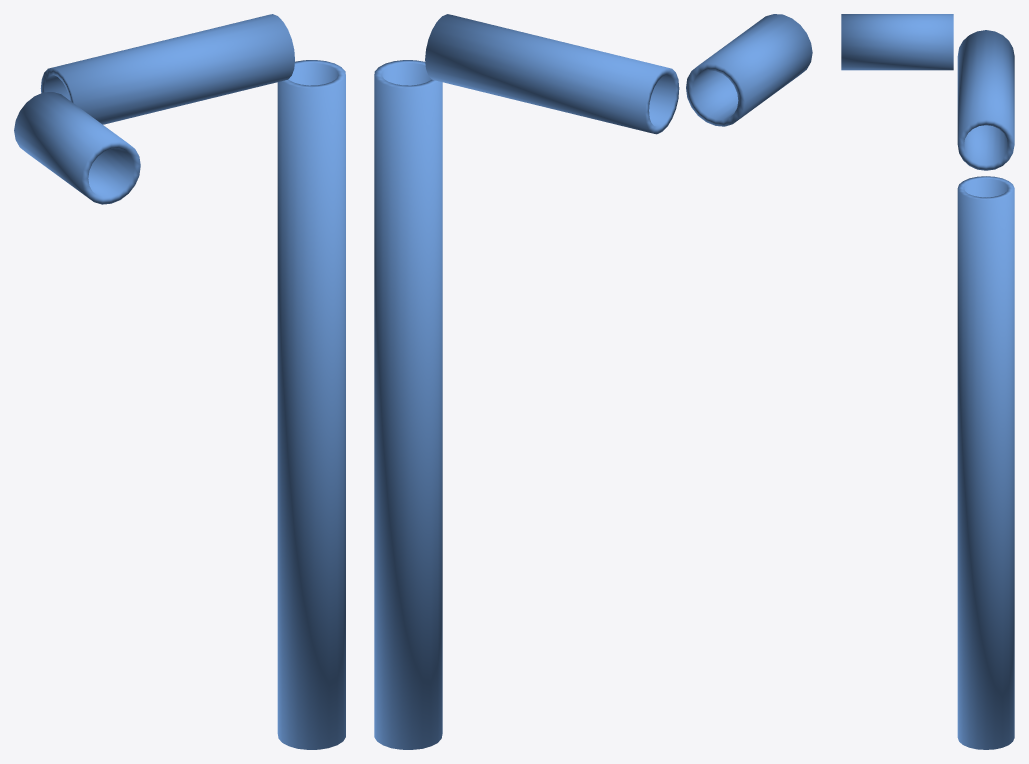
File: slab_pipes_supply__plumbing__f2cdb15d.glb
3 renders of one model, left to right at view 1: azimuth 30°, elevation 25°; view 2: azimuth 150°, elevation 25°; view 3: azimuth 270°, elevation 25°, orthographic. The views are drawn at different scales.
Visible parts, largest first — view 1: pipe_supply_manifold_feed__pex.902; view 2: pipe_supply_manifold_feed__pex.902; view 3: pipe_supply_manifold_feed__pex.902.
Boxes of the visible parts, x1,y1,x2,y2 form: pipe_supply_manifold_feed__pex.902: (14, 14, 345, 749); pipe_supply_manifold_feed__pex.902: (374, 14, 812, 749); pipe_supply_manifold_feed__pex.902: (841, 14, 1014, 749).
Bounding box in the file's own units: 0.1302 × 0.2611 × 0.0677.
